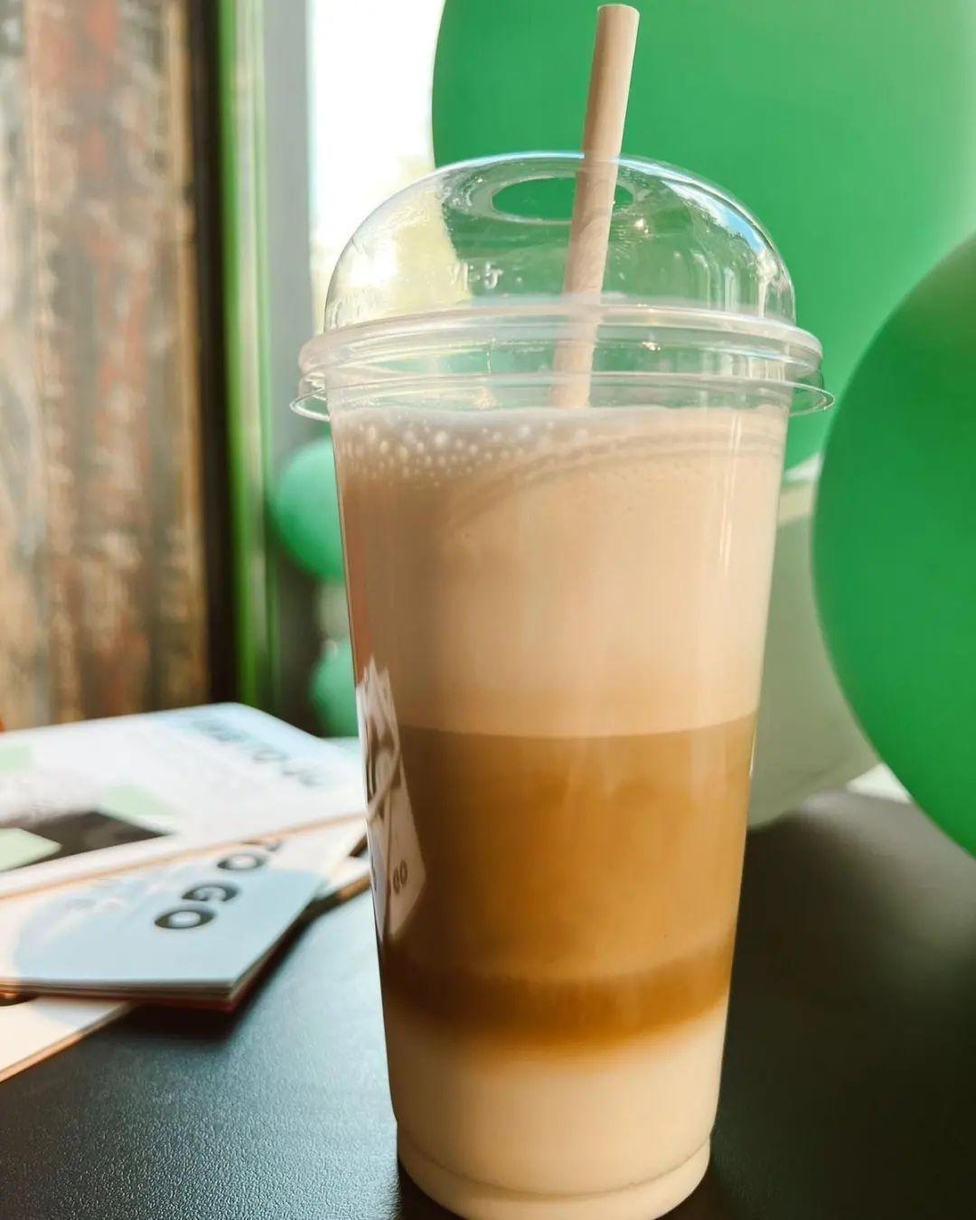cup-disposable: (299, 139, 837, 1220)
